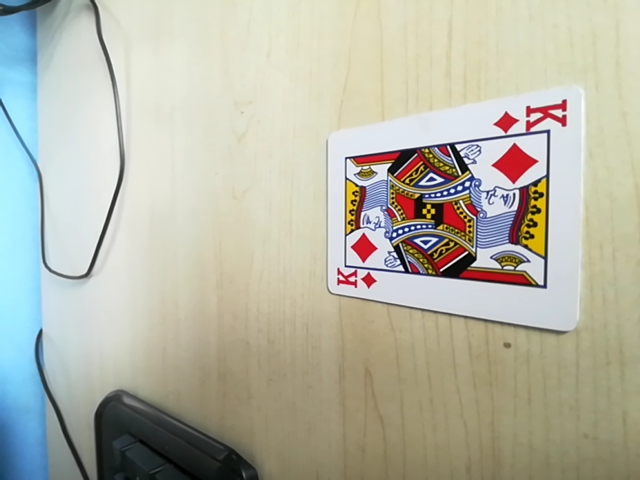fk k: (495, 98, 570, 138), (330, 264, 379, 293)
